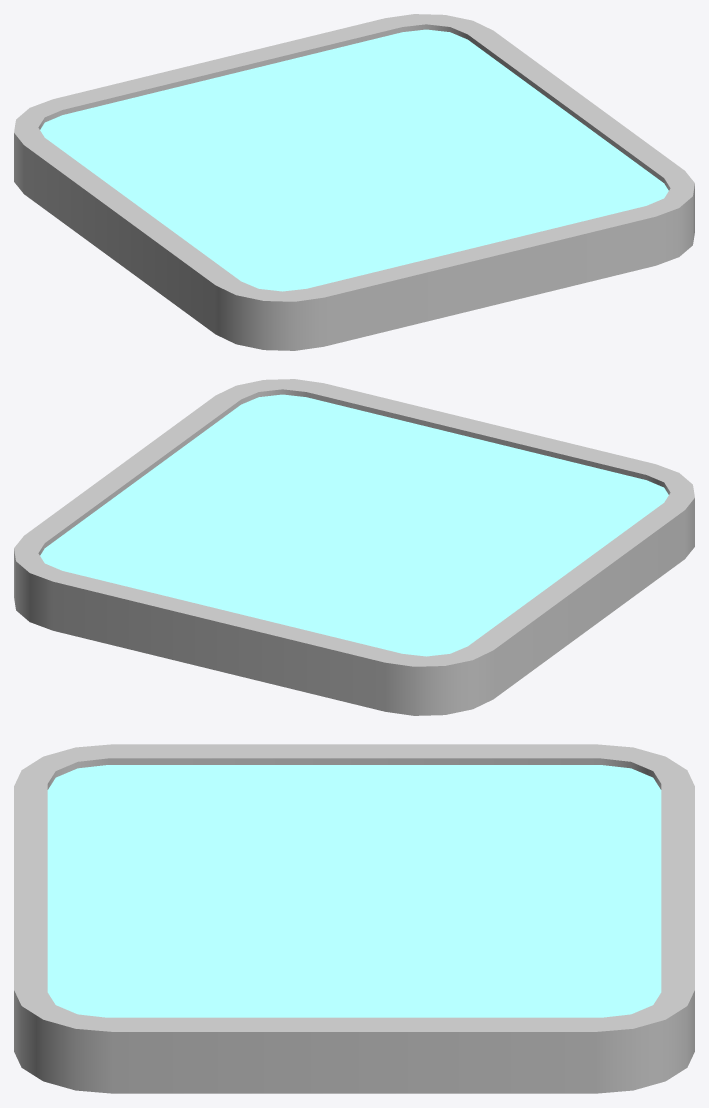
Rendered from MusicChip.fbx.
The picture shows the model from 3 angles, top to bottom: view 1: azimuth 30°, elevation 25°; view 2: azimuth 150°, elevation 25°; view 3: azimuth 270°, elevation 25°; orthographic projection. The views are drawn at different scales.
Visible parts, largest first — view 1: Chip; view 2: Chip; view 3: Chip.
Boxes of the visible parts, x1,y1,x2,y2 form: Chip: (14, 14, 694, 350); Chip: (14, 379, 694, 715); Chip: (14, 744, 694, 1093).
Bounding box in the file's own units: 10 × 1 × 10.
